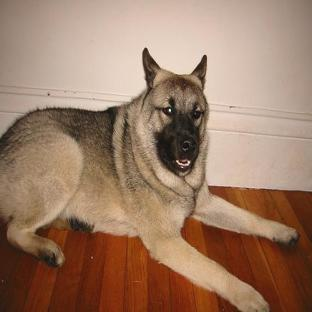Animal: (1, 48, 299, 310)
